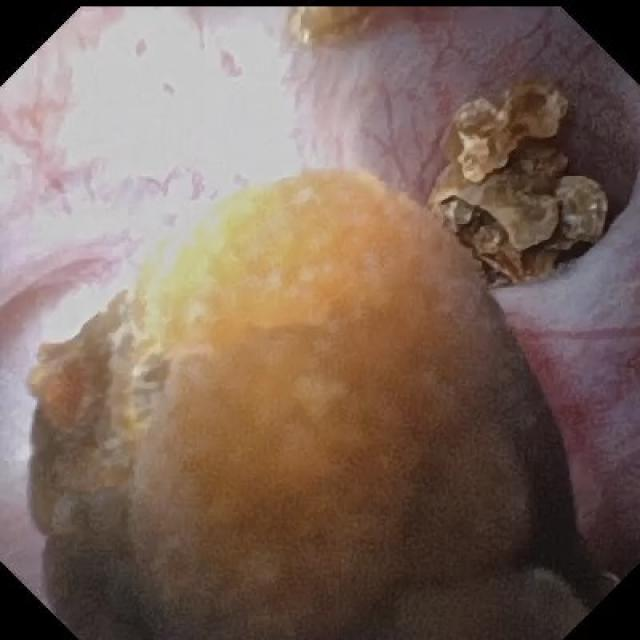stone-new: (29, 170, 605, 638), (429, 82, 606, 285), (288, 6, 373, 45), (286, 482, 286, 482)
